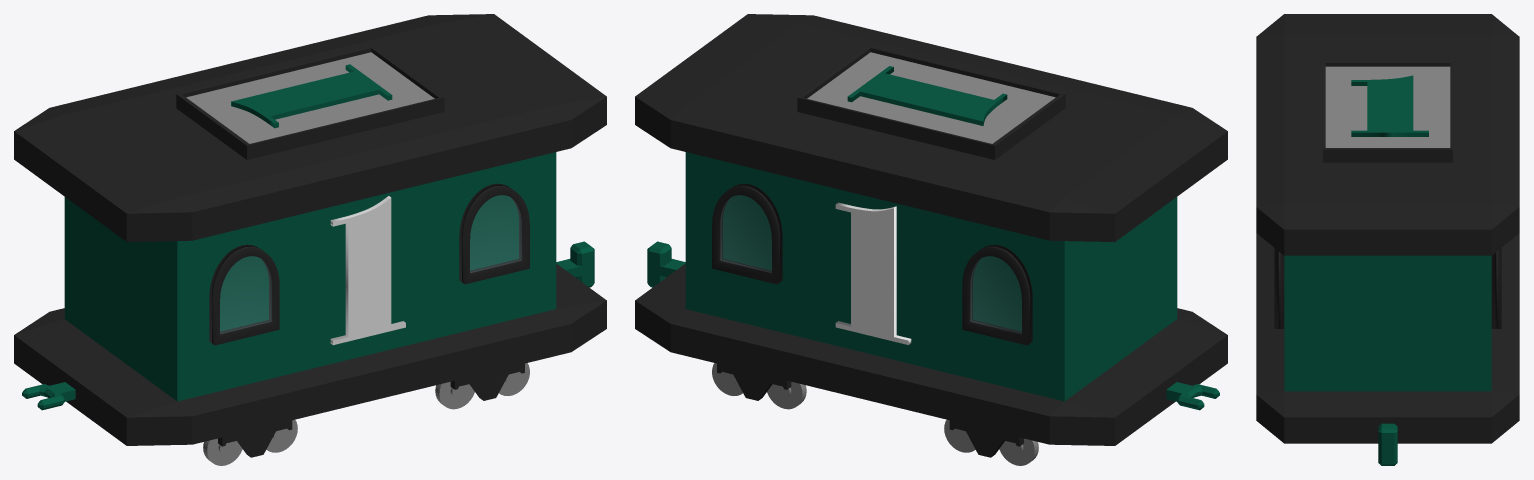
File: traincar1 joined mesh.fbx
The picture shows the model from 3 angles, left to right: view 1: azimuth 30°, elevation 25°; view 2: azimuth 150°, elevation 25°; view 3: azimuth 270°, elevation 25°; orthographic projection. The views are drawn at different scales.
Visible parts, largest first — view 1: Cart1; view 2: Cart1; view 3: Cart1.
Boxes of the visible parts, bbox=[...] form: Cart1: bbox=[14, 14, 606, 465]; Cart1: bbox=[635, 14, 1227, 465]; Cart1: bbox=[1256, 14, 1519, 465].
Bounding box in the file's own units: 17.77 × 8.86 × 7.84.
